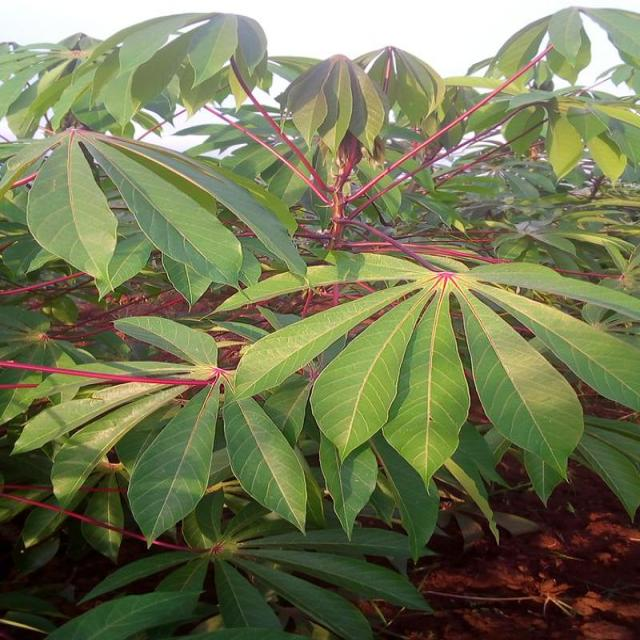cassava leaf: (278, 52, 384, 160)
